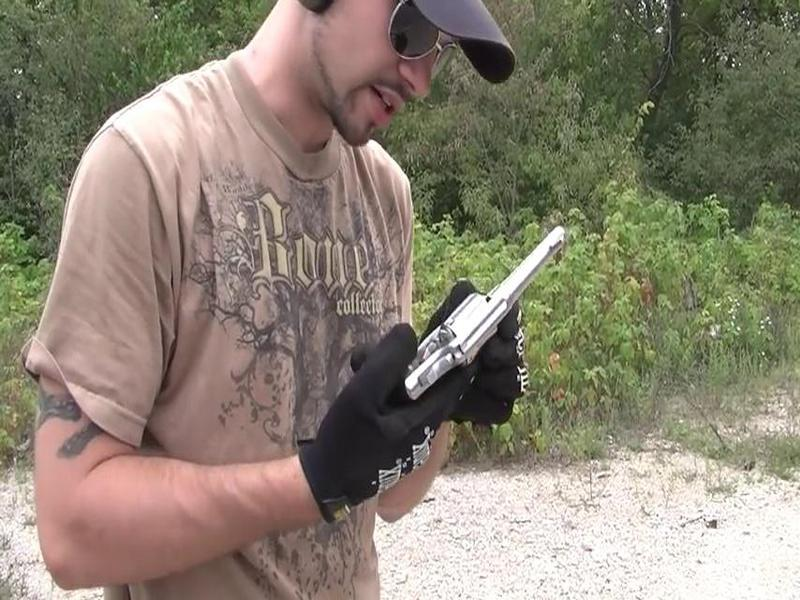Revolver: (410, 204, 567, 411)
